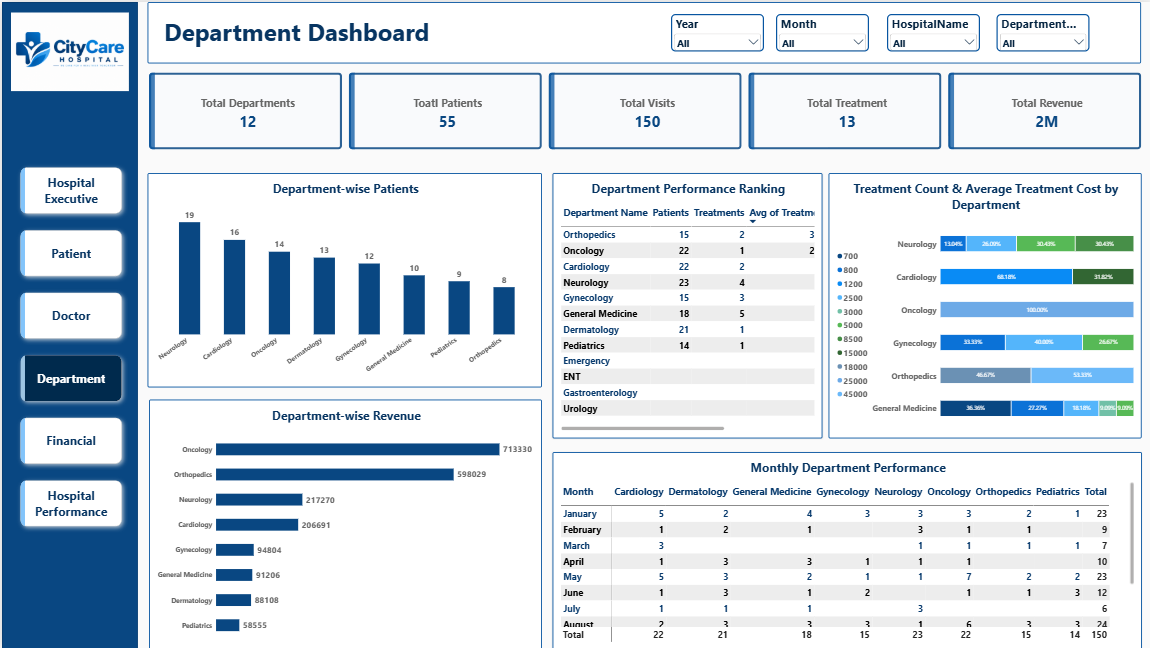

The page's visual inventory and layout, read from the dashboard file:
{"tool":"powerbi","page":{"name":"Department","canvas":[2560,1440],"ordinal":3},"visuals":[{"type":"shape","box":[324.5,0,2207.8,136.8],"z":0},{"type":"cardVisual","fields":{"Data":["Departments.Total Departments","Count(Medical Transactions.PatientID)","Medical Transactions.Total Visits","Count(Medical Transactions.TreatmentID)","Medical Transactions.Total Revenue"]},"box":[327.1,155.4,2205.4,171.6],"z":1000},{"type":"lineChart","title":"Monthly Department Performance ","fields":{"Category":["Medical Transactions.AdmissionDate.Variation.Date Hierarchy.Month"],"Y":["CountNonNull(Medical Transactions.PatientID)"],"Series":["Departments.DepartmentName"]},"box":[1307.5,1072.1,1224.8,369],"z":2000},{"type":"clusteredBarChart","title":"Department-wise Revenue","fields":{"Category":["Departments.DepartmentName"],"Y":["Medical Transactions.Total Revenue"]},"box":[327.7,884.4,954.4,556.7],"z":3000},{"type":"clusteredBarChart","title":"Treatment Count & Average Treatment Cost by Department","fields":{"Category":["Departments.DepartmentName"],"Y":["CountNonNull(Medical Transactions.TreatmentID)","Avg(Medical Transactions.TreatmentCost)"]},"box":[1926.1,381.6,605.7,666.3],"z":4000},{"type":"textbox","box":[359.5,29.1,816.1,84.2],"z":5000},{"type":"slicer","fields":{"Values":["Medical Transactions.AdmissionDate.Variation.Date Hierarchy.Year"]},"box":[1486.7,26.7,206.7,83.3],"z":6000},{"type":"clusteredColumnChart","title":"Department-wise Patients","fields":{"Category":["Departments.DepartmentName"],"Y":["Count(Medical Transactions.PatientID)"]},"box":[324.5,378.6,957.5,477.2],"z":7000},{"type":"slicer","fields":{"Values":["Hospitals.HospitalName"]},"box":[1966.7,26.7,206.7,83.3],"z":8000},{"type":"slicer","fields":{"Values":["Medical Transactions.AdmissionDate.Variation.Date Hierarchy.Month"]},"box":[1720,26.7,206.7,83.3],"z":9000},{"type":"slicer","fields":{"Values":["Departments.DepartmentName"]},"box":[2210,26.7,206.7,83.3],"z":10000},{"type":"shape","box":[0,0,302.2,1441.1],"z":11000},{"type":"pageNavigator","box":[25.4,353.1,254.5,830.3],"z":12000},{"type":"image","box":[0,22.3,302.2,175],"z":13000},{"type":"tableEx","title":"Department Performance Ranking","fields":{"Values":["Departments.DepartmentName","Medical Transactions.PatientID","Medical Transactions.TreatmentID","Avg(Medical Transactions.TreatmentCost)","Departments.Departments Ranking"]},"box":[1308.3,378.6,587.5,666.3],"z":14000}]}

Visuals, with their boxes on the page's 2560x1440 design canvas (x1, y1, x2, y2). These are canvas units, not pixel positions in the 1150x648 screenshot, which may show the page scaled, cropped or inside an application window:
shape: box=[324, 0, 2532, 137]
cardVisual - Departments.Total Departments x Count(Medical Transactions.PatientID): box=[327, 155, 2532, 327]
"Monthly Department Performance " lineChart: box=[1308, 1072, 2532, 1441]
"Department-wise Revenue" clusteredBarChart: box=[328, 884, 1282, 1441]
"Treatment Count & Average Treatment Cost by Department" clusteredBarChart: box=[1926, 382, 2532, 1048]
textbox: box=[360, 29, 1176, 113]
slicer - Medical Transactions.AdmissionDate.Variation.Date Hierarchy.Year: box=[1487, 27, 1693, 110]
"Department-wise Patients" clusteredColumnChart: box=[324, 379, 1282, 856]
slicer - Hospitals.HospitalName: box=[1967, 27, 2173, 110]
slicer - Medical Transactions.AdmissionDate.Variation.Date Hierarchy.Month: box=[1720, 27, 1927, 110]
slicer - Departments.DepartmentName: box=[2210, 27, 2417, 110]
shape: box=[0, 0, 302, 1441]
pageNavigator: box=[25, 353, 280, 1183]
image: box=[0, 22, 302, 197]
"Department Performance Ranking" tableEx: box=[1308, 379, 1896, 1045]
